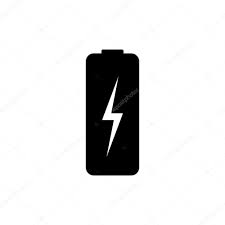charging sign: (63, 41, 160, 186)
